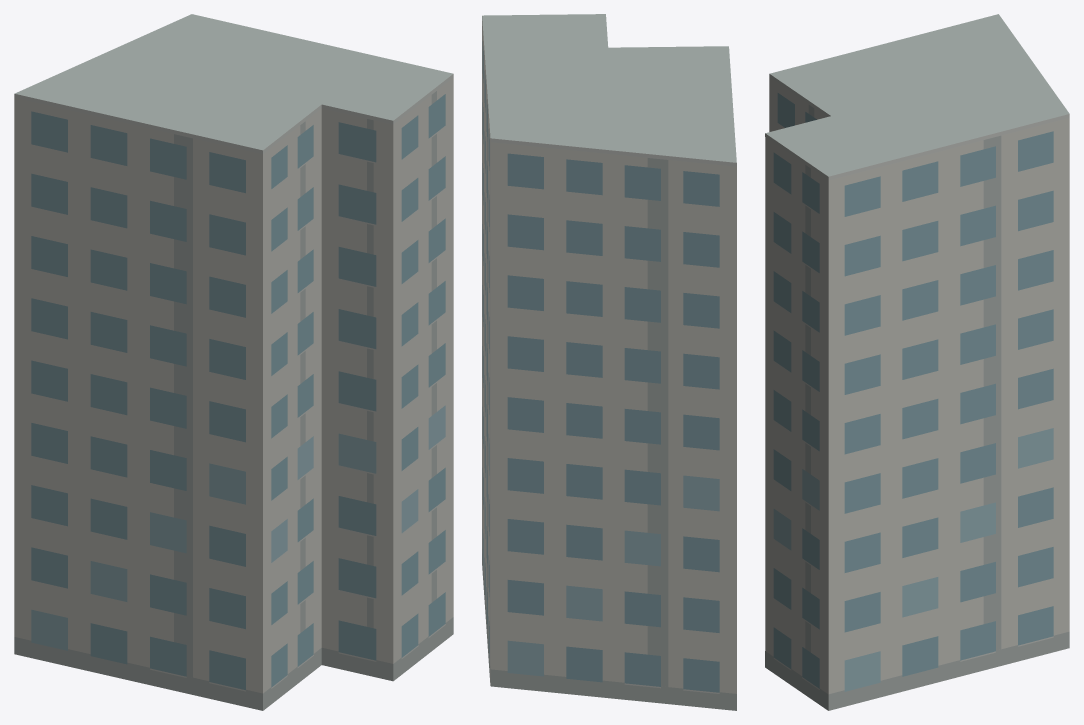
The model's file is residential-5d8bae07-aeb4-4e9c-9ee6-5a14c86eeaab.glb.
The picture shows the model from 3 angles, left to right: view 1: azimuth 30°, elevation 25°; view 2: azimuth 150°, elevation 25°; view 3: azimuth 270°, elevation 25°; orthographic projection. The views are drawn at different scales.
Parts seen in each view (by area): view 1: residential-5d8bae07-aeb4-4e9c-9ee6-5a14c86eeaab.tmp; view 2: residential-5d8bae07-aeb4-4e9c-9ee6-5a14c86eeaab.tmp; view 3: residential-5d8bae07-aeb4-4e9c-9ee6-5a14c86eeaab.tmp.
Part boxes in pixels (x1,y1,x2,y2): residential-5d8bae07-aeb4-4e9c-9ee6-5a14c86eeaab.tmp: [14, 14, 453, 710]; residential-5d8bae07-aeb4-4e9c-9ee6-5a14c86eeaab.tmp: [482, 14, 736, 710]; residential-5d8bae07-aeb4-4e9c-9ee6-5a14c86eeaab.tmp: [765, 14, 1069, 710].
Bounding box in the file's own units: 22.22 × 34 × 17.58.
